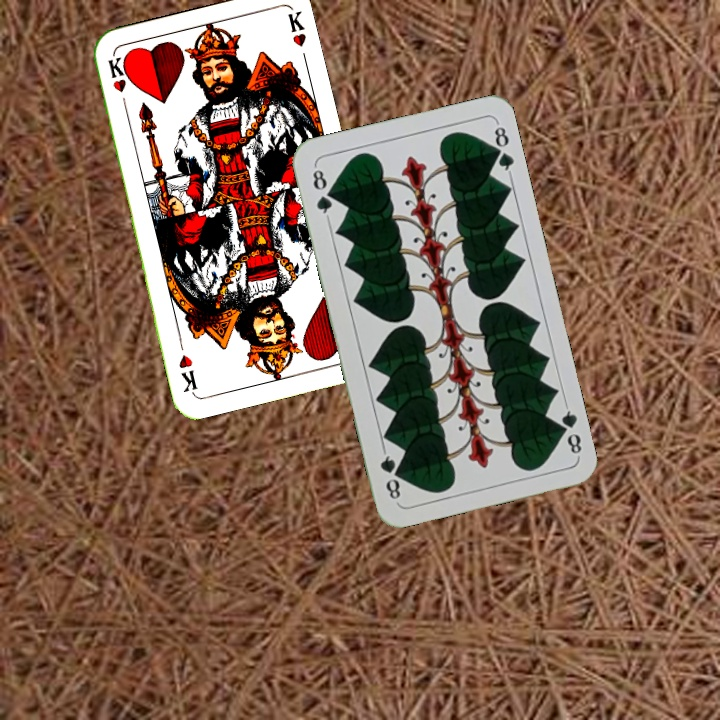G8: (552, 400, 585, 459), (308, 162, 336, 221)
HK: (104, 52, 130, 112)
